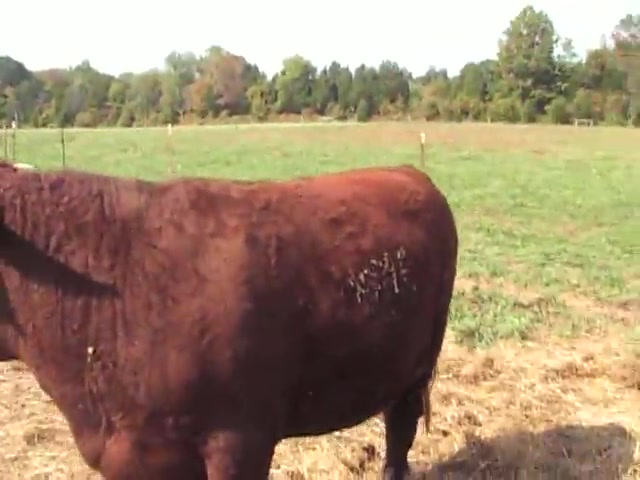cow: (1, 158, 460, 480)
